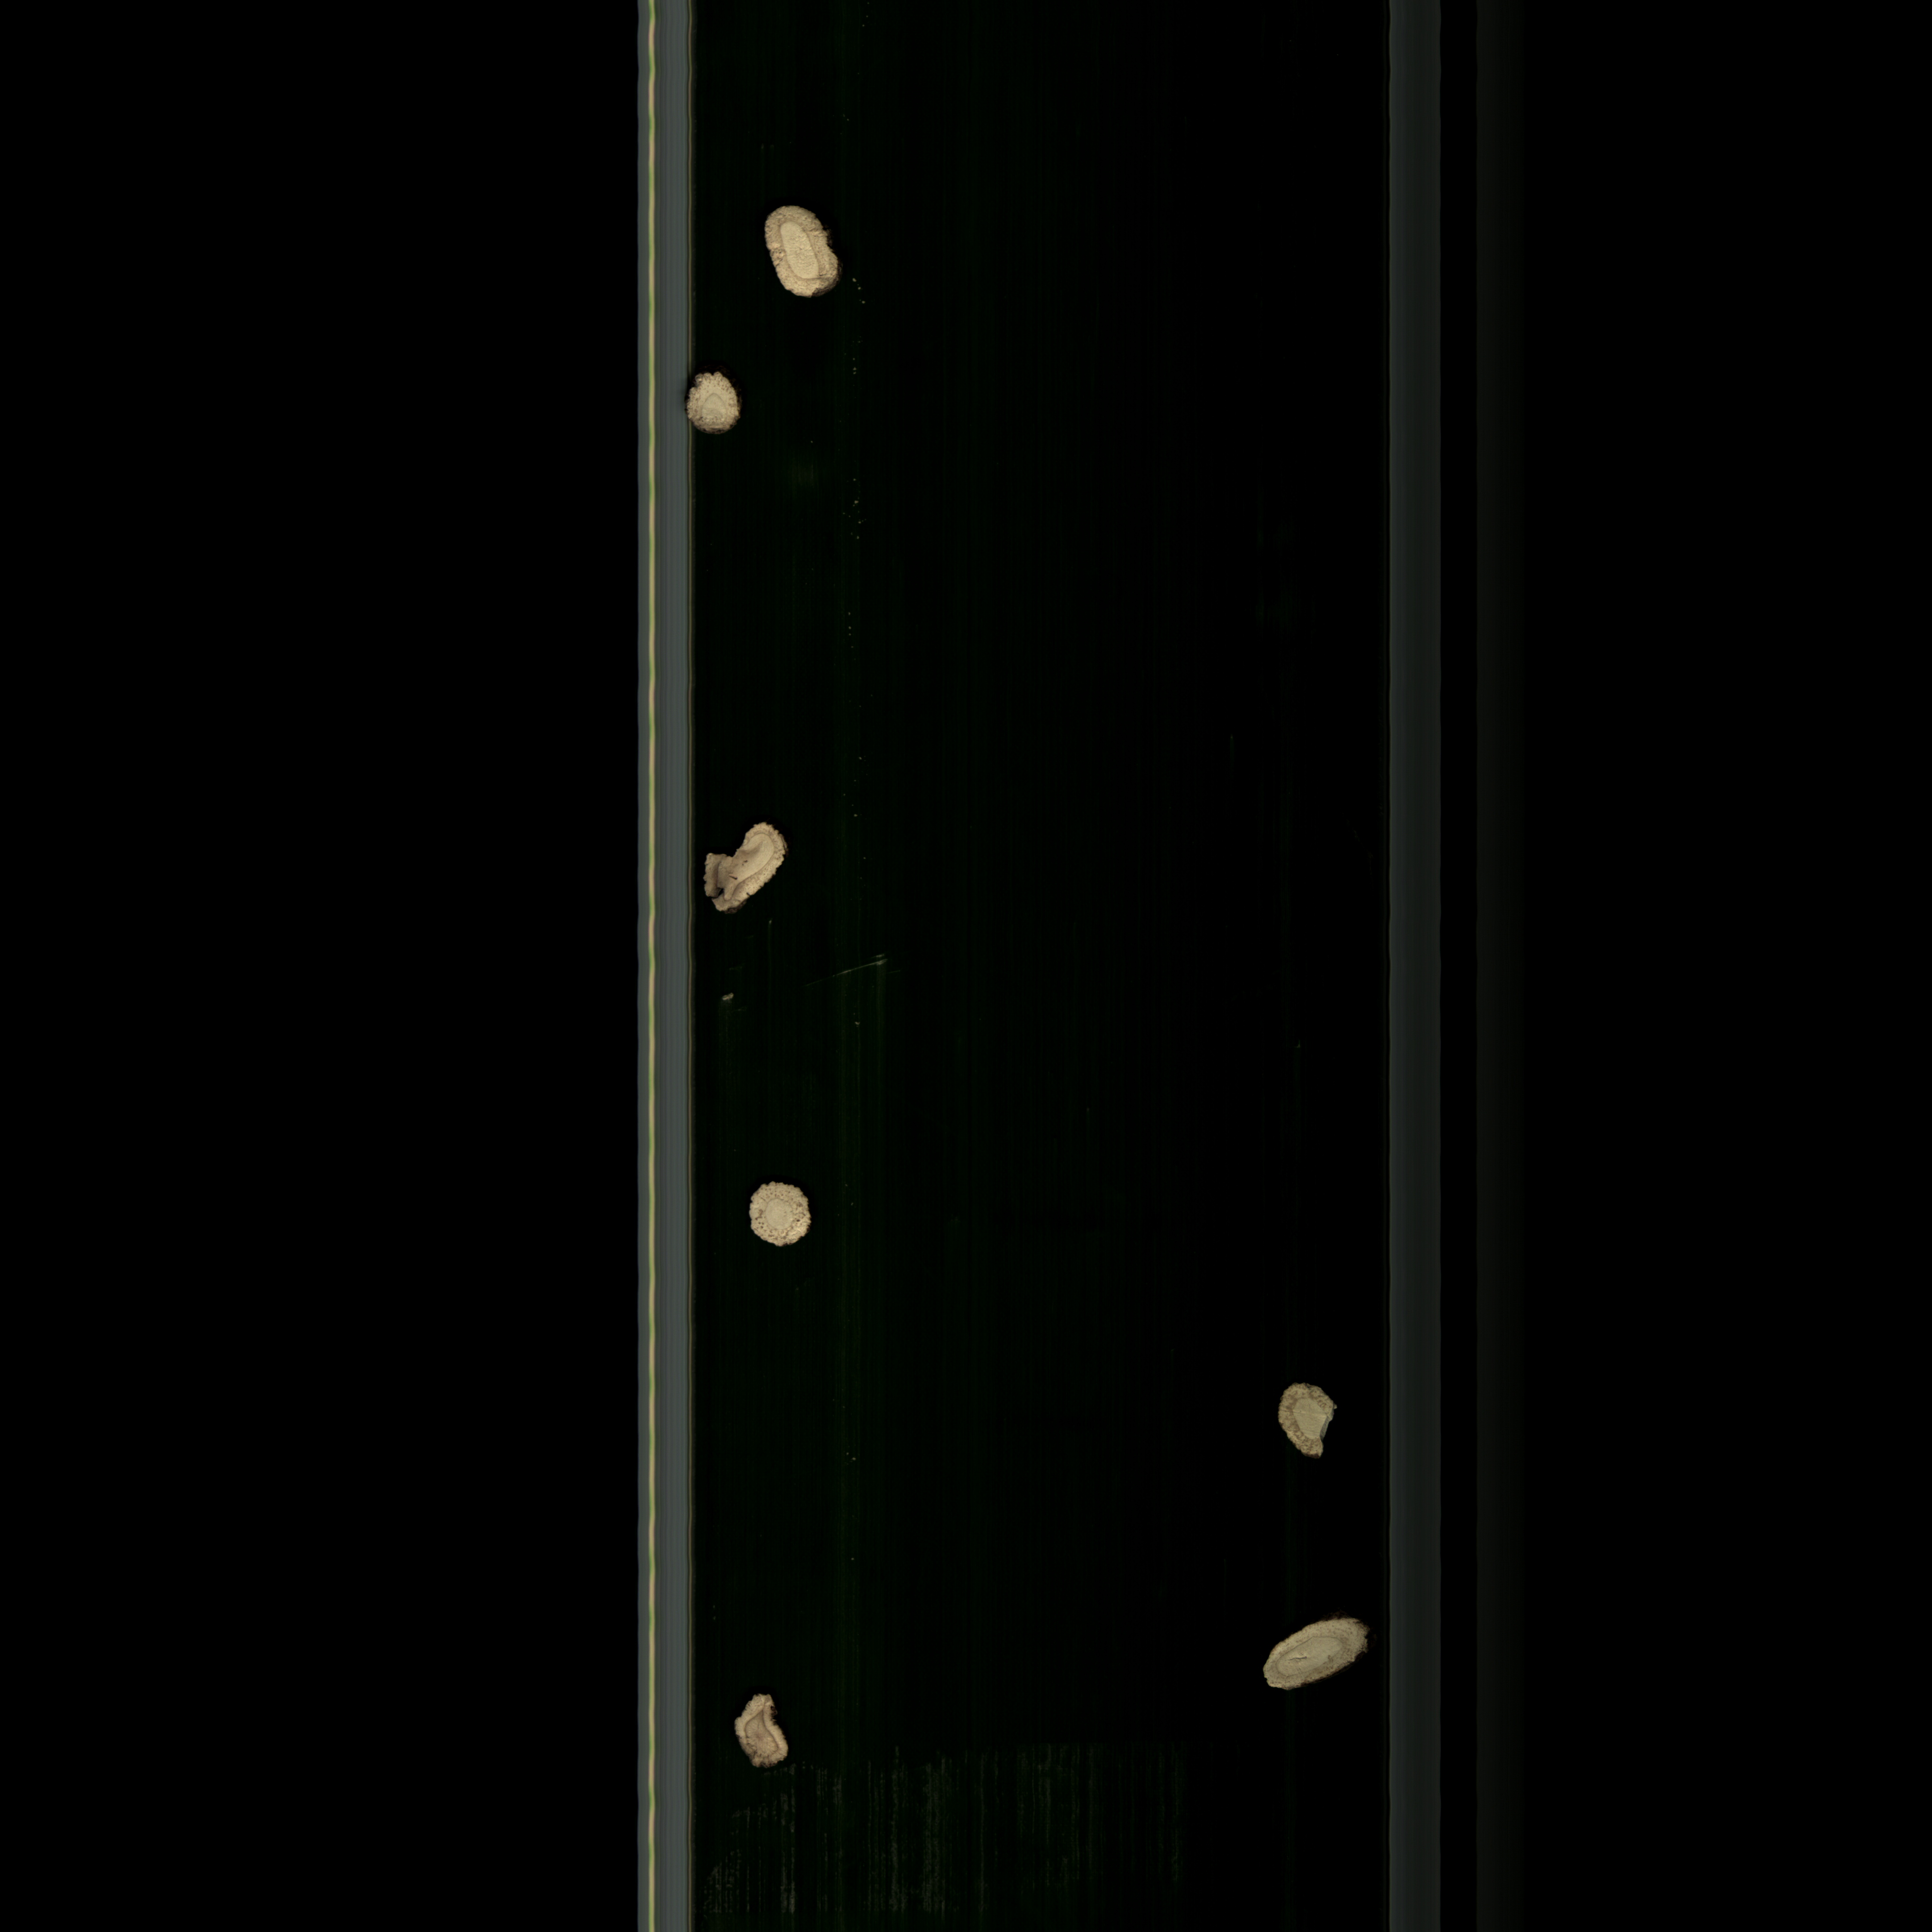debris: (1261, 1375, 1361, 1481)
distortion: (1253, 1608, 1375, 1698), (685, 363, 759, 444)
moldy: (694, 809, 791, 929), (755, 196, 853, 301), (722, 1681, 801, 1780)
